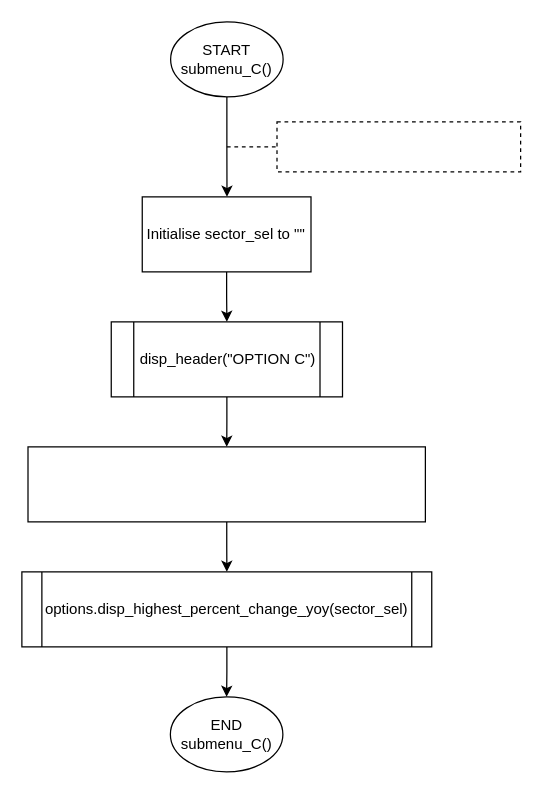
Image size: 543x794. Some labels were removed from this diagram. Here are the shapes that lost their labels. From the top down, the box of each, then its label:
(276, 121, 521, 172): import option_functions as options
(27, 446, 425, 522): sector_sel = menu_select("SECTOR SUBMENU", "sector", sector_dict)
